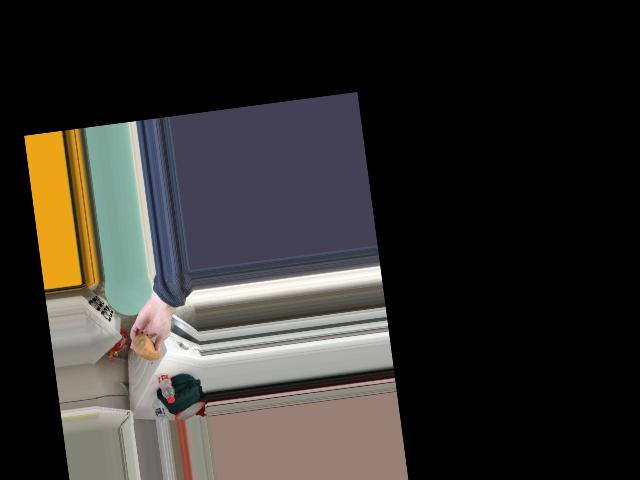sweet_potato: (133, 327, 164, 362)
